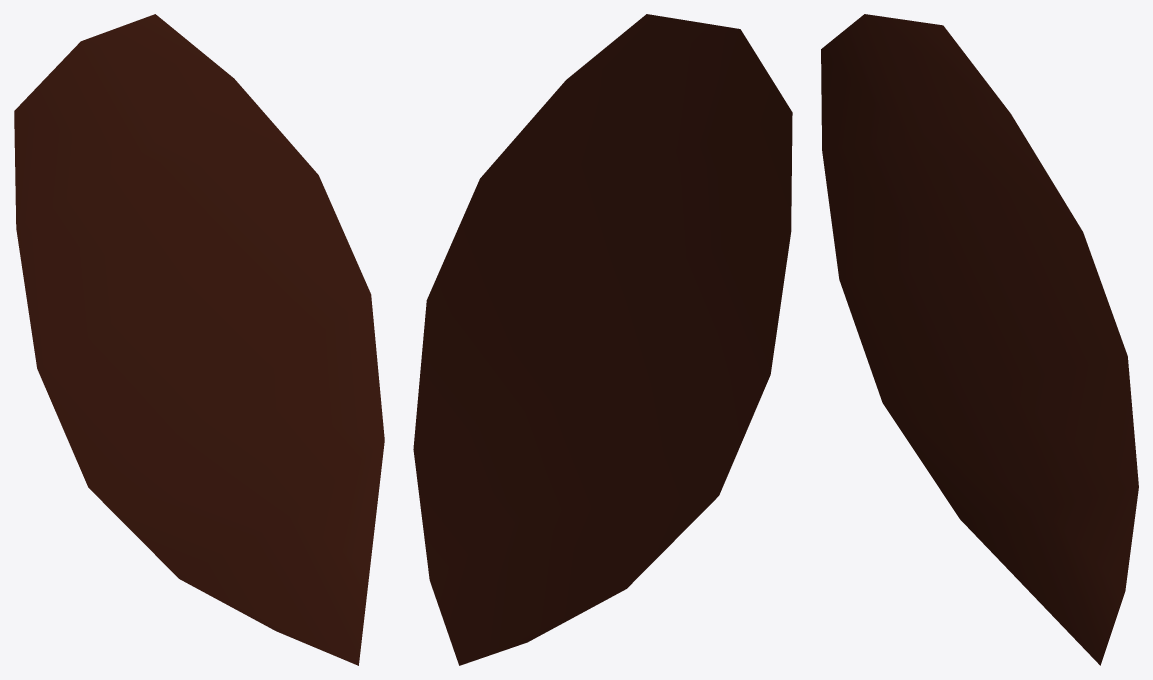
File: rooster_feather_flight_tertiary_022.obj
The picture shows the model from 3 angles, left to right: view 1: azimuth 30°, elevation 25°; view 2: azimuth 150°, elevation 25°; view 3: azimuth 330°, elevation 25°; orthographic projection. The views are drawn at different scales.
Parts seen in each view (by area): view 1: feather_flight_tertiary_022; view 2: feather_flight_tertiary_022; view 3: feather_flight_tertiary_022.
Part boxes in pixels (box(x1,y1,x2,y2)): feather_flight_tertiary_022: box(14, 14, 384, 665); feather_flight_tertiary_022: box(413, 14, 792, 665); feather_flight_tertiary_022: box(821, 14, 1138, 665).
Size of the model in its own units: 0.0129 by 0.023 by 0.00061.
